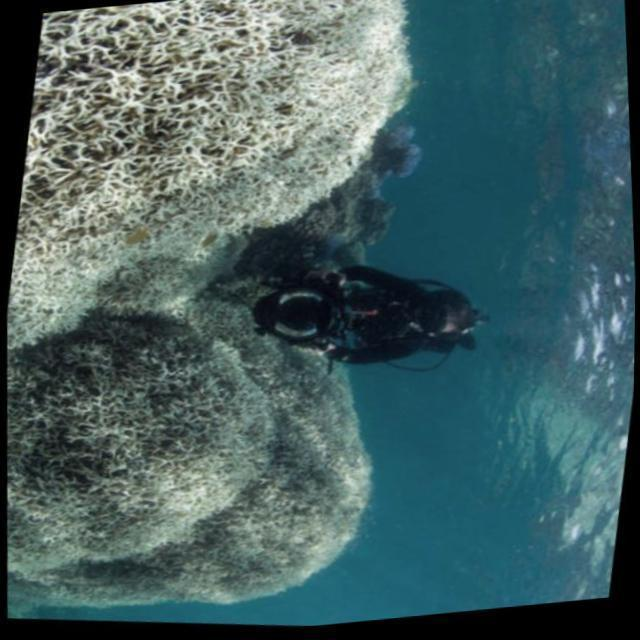Dead Coral: (0, 282, 411, 640)
